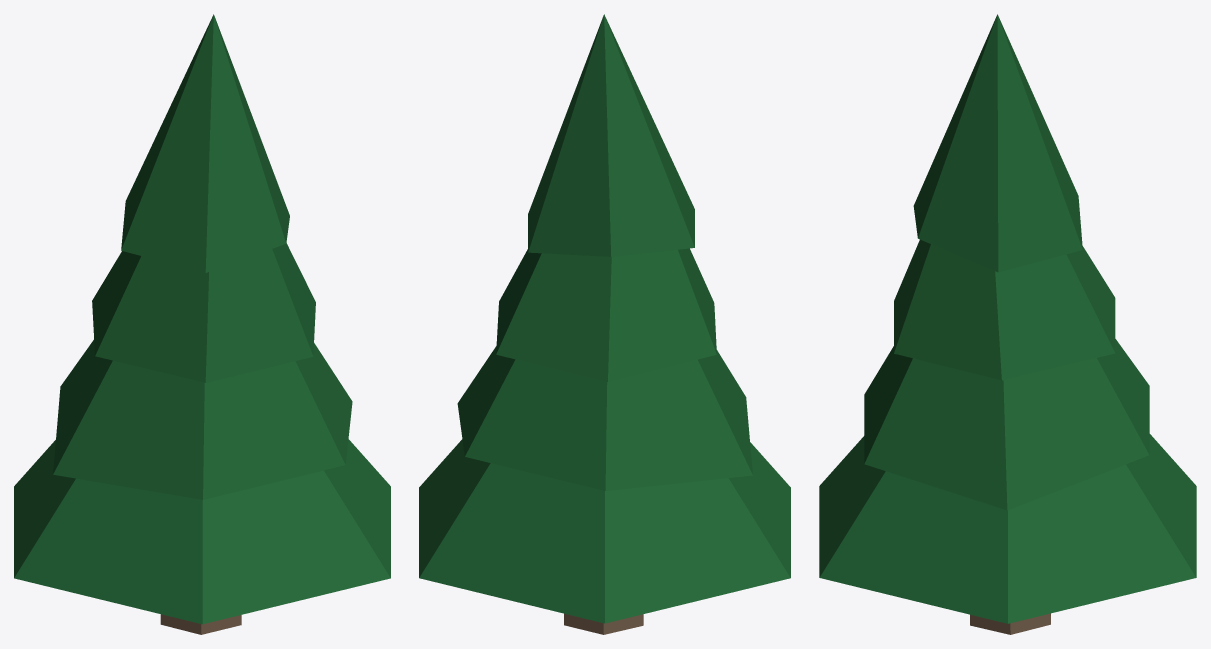
The model's file is Hilly_Prop_Tree_Pine_2.obj.
The picture shows the model from 3 angles, left to right: view 1: azimuth 30°, elevation 25°; view 2: azimuth 150°, elevation 25°; view 3: azimuth 270°, elevation 25°; orthographic projection.
Parts seen in each view (by area): view 1: object1, object5, object2, object4, object3; view 2: object1, object5, object4, object2, object3; view 3: object1, object5, object2, object4, object3.
Part boxes in pixels (left/top/right/bottom): object1: left=14, top=439, right=390, bottom=624; object5: left=53, top=339, right=352, bottom=499; object2: left=121, top=14, right=289, bottom=272; object4: left=92, top=243, right=315, bottom=382; object3: left=160, top=614, right=241, bottom=634; object1: left=419, top=439, right=790, bottom=623; object5: left=457, top=346, right=752, bottom=490; object4: left=496, top=248, right=716, bottom=381; object2: left=528, top=14, right=694, bottom=256; object3: left=564, top=613, right=643, bottom=634; object1: left=819, top=434, right=1196, bottom=623; object5: left=864, top=339, right=1149, bottom=510; object2: left=913, top=14, right=1082, bottom=272; object4: left=894, top=239, right=1115, bottom=380; object3: left=970, top=613, right=1050, bottom=634.
Bounding box in the file's own units: 2.6 × 3.98 × 2.25.
